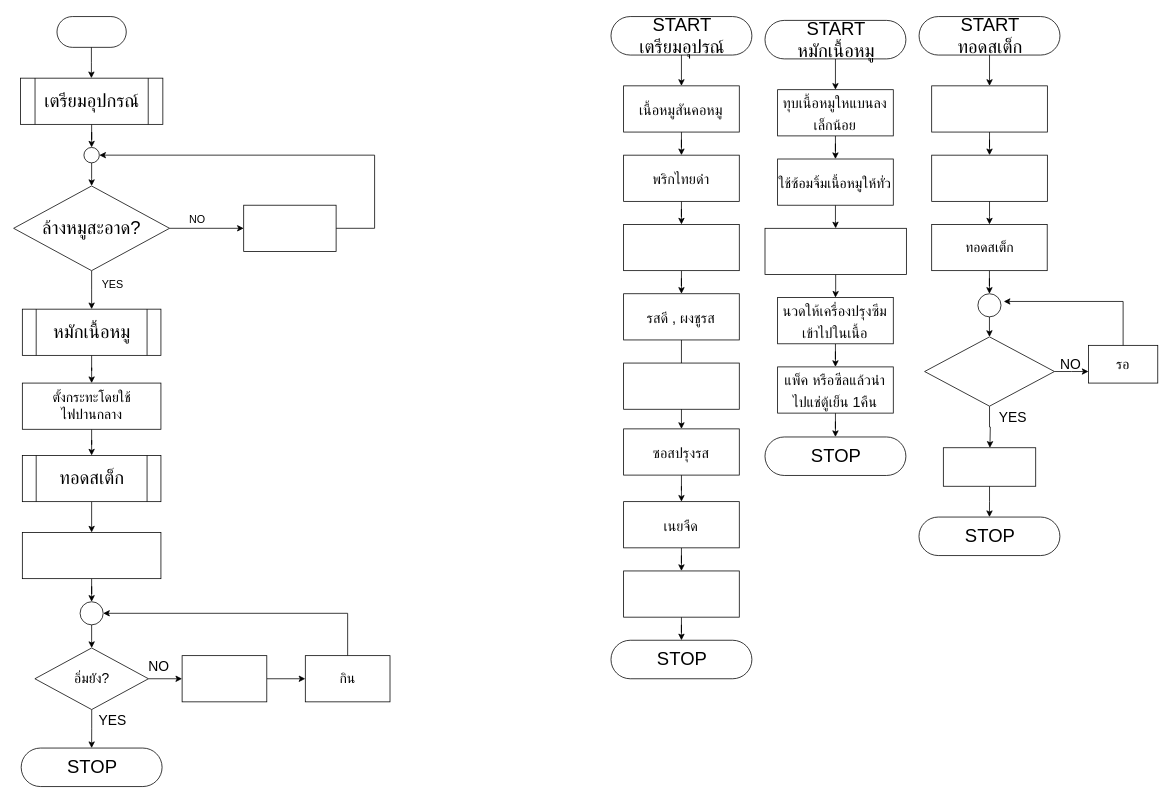
This 1171x800 diagram has some shape labels left out. Each missing label, with the box of its shape:
START: (56, 16, 126, 47)
จัดจาน: (22, 532, 161, 579)
ตั้งกระทะด้วยไฟปานกลาง: (931, 85, 1047, 132)
ทำเพิ่ม: (181, 655, 267, 702)
นมข้นจืด: (623, 362, 739, 409)
นำเครื่องปรุง,ส่วนผสมที่เตรียมไว้ใส่ลงไป: (764, 228, 906, 275)
ปรุงรส: (943, 447, 1036, 486)
ล้างใหม่: (243, 204, 336, 251)
สุกทั้งสองด้านยัง?: (924, 336, 1054, 406)
หอมใหญ่: (623, 570, 739, 617)
ออริกาโน่ป่น: (623, 224, 739, 271)
ใส่เนยสดบนกระทะ: (931, 154, 1047, 201)
